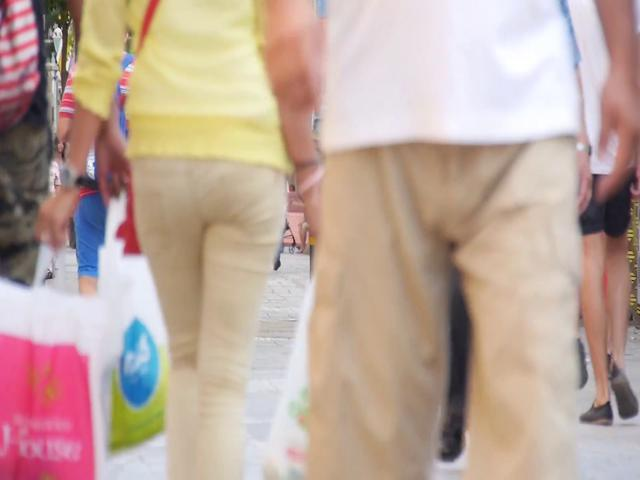shoe: (611, 372, 639, 419), (580, 401, 613, 426)
